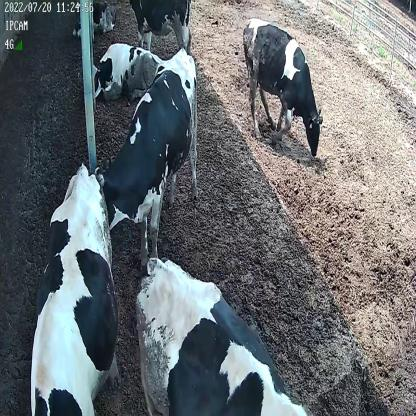cow: (132, 256, 308, 416), (90, 49, 201, 269), (30, 163, 120, 416), (241, 18, 325, 158), (84, 41, 166, 104)
